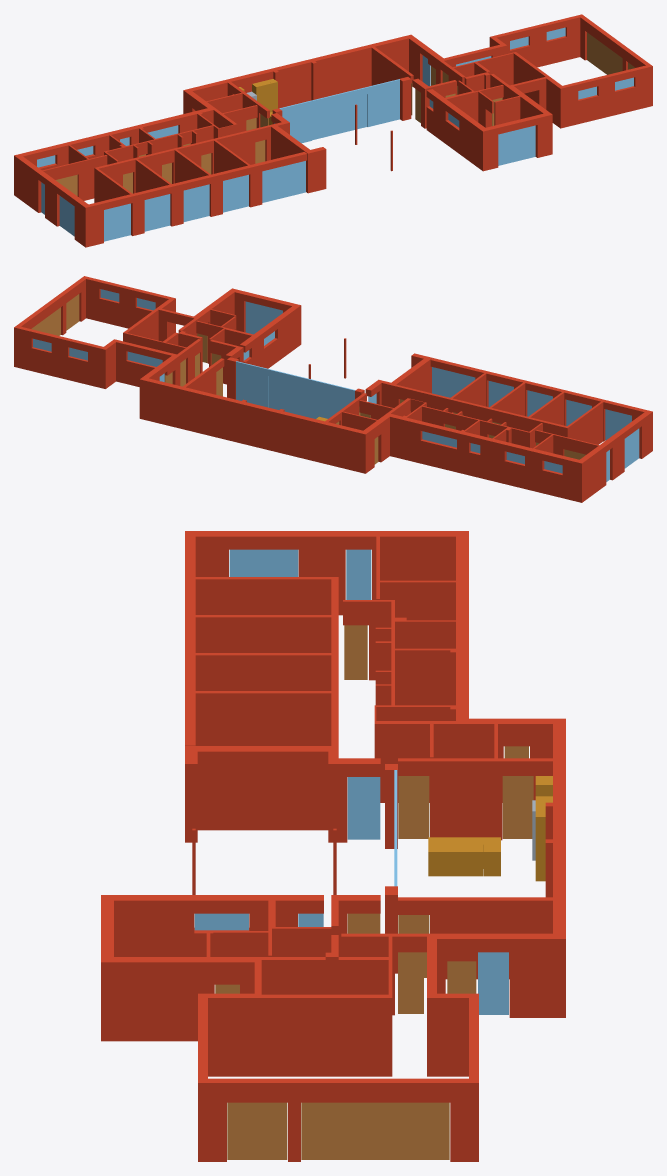
File: ground_floor.glb
3 views of the same model, one above another, from view 1: azimuth 30°, elevation 25°; view 2: azimuth 150°, elevation 25°; view 3: azimuth 270°, elevation 25° (orthographic). The views are drawn at different scales.
Parts seen in each view (by area): view 1: masonry (×36), glazing (×9), door; view 2: masonry (×34), glazing (×9), door (×2); view 3: masonry (×37), door (×7), glazing (×5).
Part boxes in pixels (x1,y1,x2,y2): masonry (×36): [14, 14, 652, 247]; glazing (×9): [59, 79, 535, 241]; door: [587, 32, 622, 74]; masonry (×34): [14, 276, 652, 502]; glazing (×9): [236, 301, 639, 468]; door (×2): [31, 294, 79, 335]; masonry (×37): [101, 531, 565, 1161]; door (×7): [227, 625, 533, 1159]; glazing (×5): [194, 549, 508, 1014].
Size of the model in its own units: 45.05 by 3 by 16.05.
